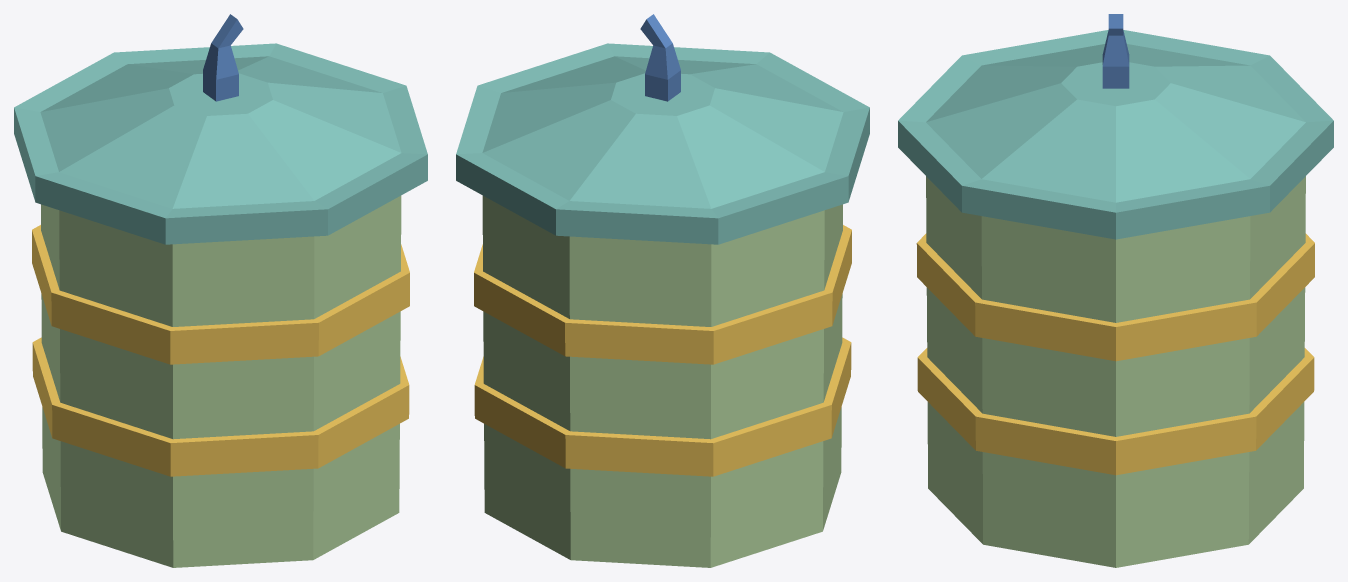
Rendered from Barrel_1.fbx.
3 views of the same model, side by side, from view 1: azimuth 30°, elevation 25°; view 2: azimuth 150°, elevation 25°; view 3: azimuth 270°, elevation 25° (orthographic).
Parts seen in each view (by area): view 1: Barrel_1; view 2: Barrel_1; view 3: Barrel_1.
Boxes of the visible parts, box(x1,y1,x2,y2) form: Barrel_1: box(14, 14, 427, 567); Barrel_1: box(456, 14, 869, 567); Barrel_1: box(898, 14, 1333, 567).
Size of the model in its own units: 76.28 by 76.28 by 92.9.
